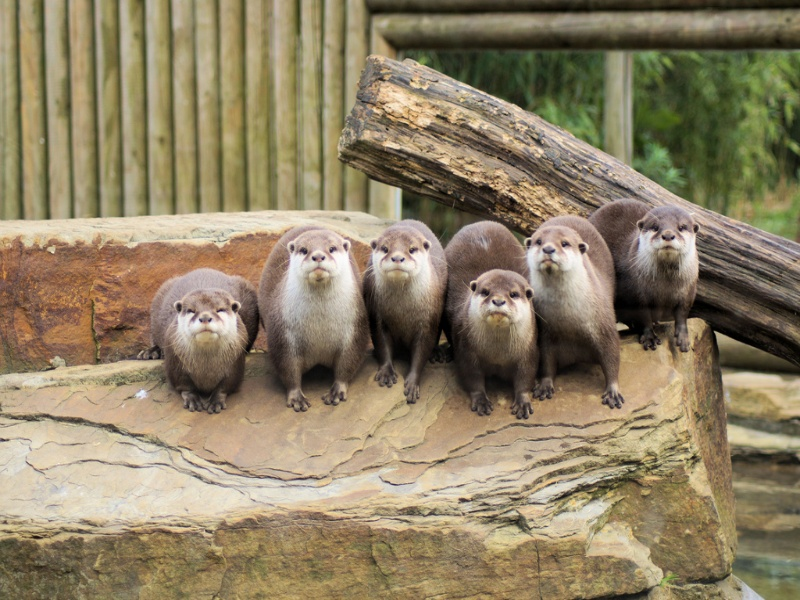minkish: (519, 214, 626, 416), (258, 219, 372, 405), (137, 255, 266, 417), (442, 219, 537, 425), (352, 215, 451, 408), (586, 196, 703, 358)
